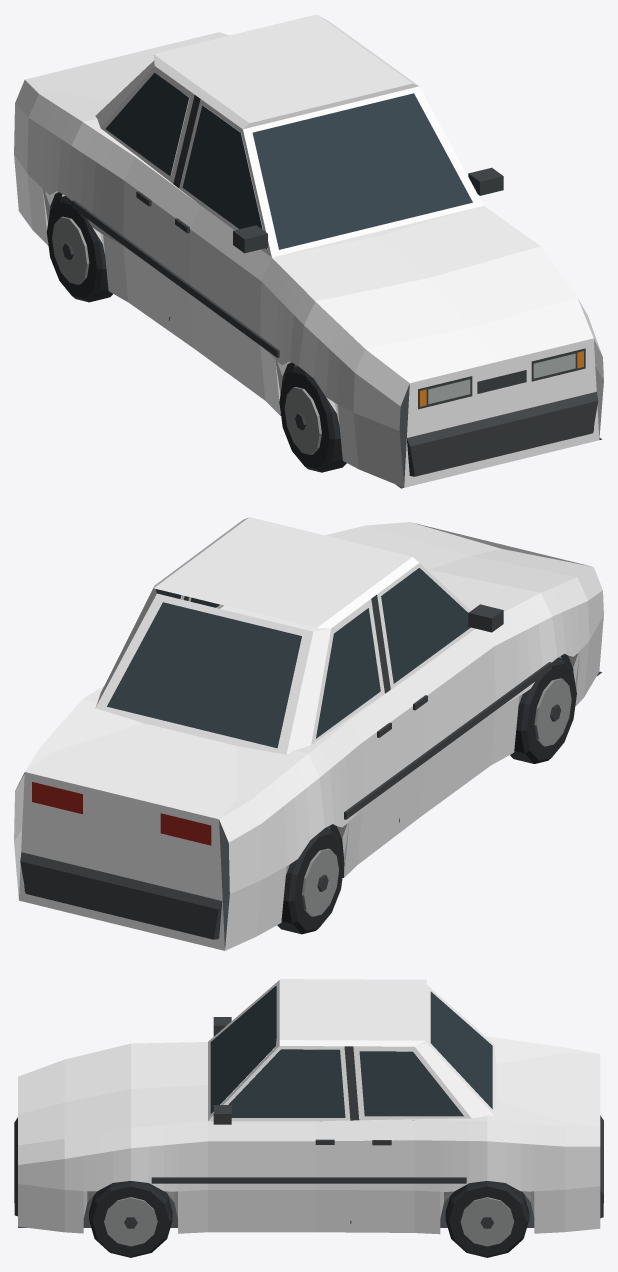
The model's file is tomoe_hatsukaze_s.glb.
The picture shows the model from 3 angles, top to bottom: view 1: azimuth 30°, elevation 25°; view 2: azimuth 150°, elevation 25°; view 3: azimuth 270°, elevation 25°; orthographic projection. The views are drawn at different scales.
Parts seen in each view (by area): view 1: tomoe_hatsukaze_s; view 2: tomoe_hatsukaze_s; view 3: tomoe_hatsukaze_s.
Boxes of the visible parts, x1,y1,x2,y2 form: tomoe_hatsukaze_s: (14,14,603,488); tomoe_hatsukaze_s: (14,517,603,950); tomoe_hatsukaze_s: (14,979,603,1257).
Size of the model in its own units: 1.63 by 1.51 by 3.97.
Materials: 8 (1 with a texture image).
